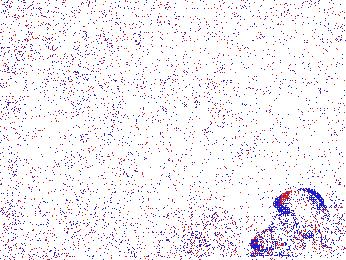flame jellyfish: (248, 187, 328, 253), (183, 198, 243, 244)
